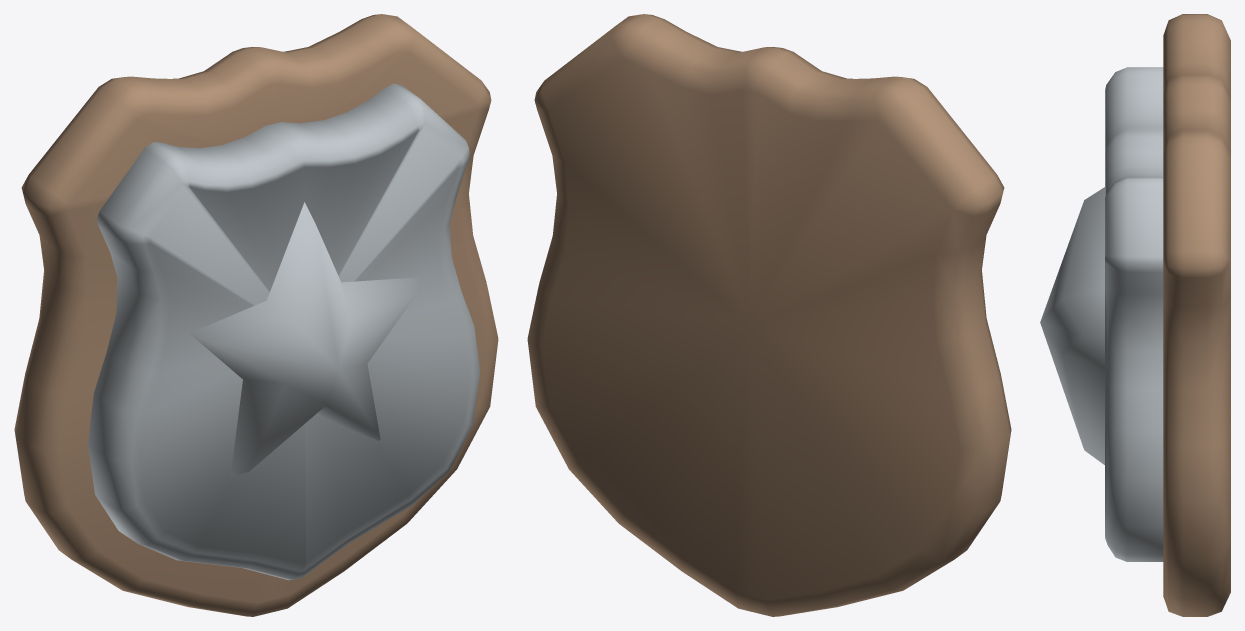
File: police_badge.glb
The picture shows the model from 3 angles, left to right: view 1: azimuth 30°, elevation 25°; view 2: azimuth 150°, elevation 25°; view 3: azimuth 270°, elevation 25°; orthographic projection. The views are drawn at different scales.
Visible parts, largest first — view 1: police_badge; view 2: police_badge; view 3: police_badge.
Part boxes in pixels (x1,y1,x2,y2): police_badge: [14, 14, 498, 616]; police_badge: [527, 14, 1011, 616]; police_badge: [1040, 14, 1230, 616].
Size of the model in its own units: 0.1929 by 0.2192 by 0.0718.
